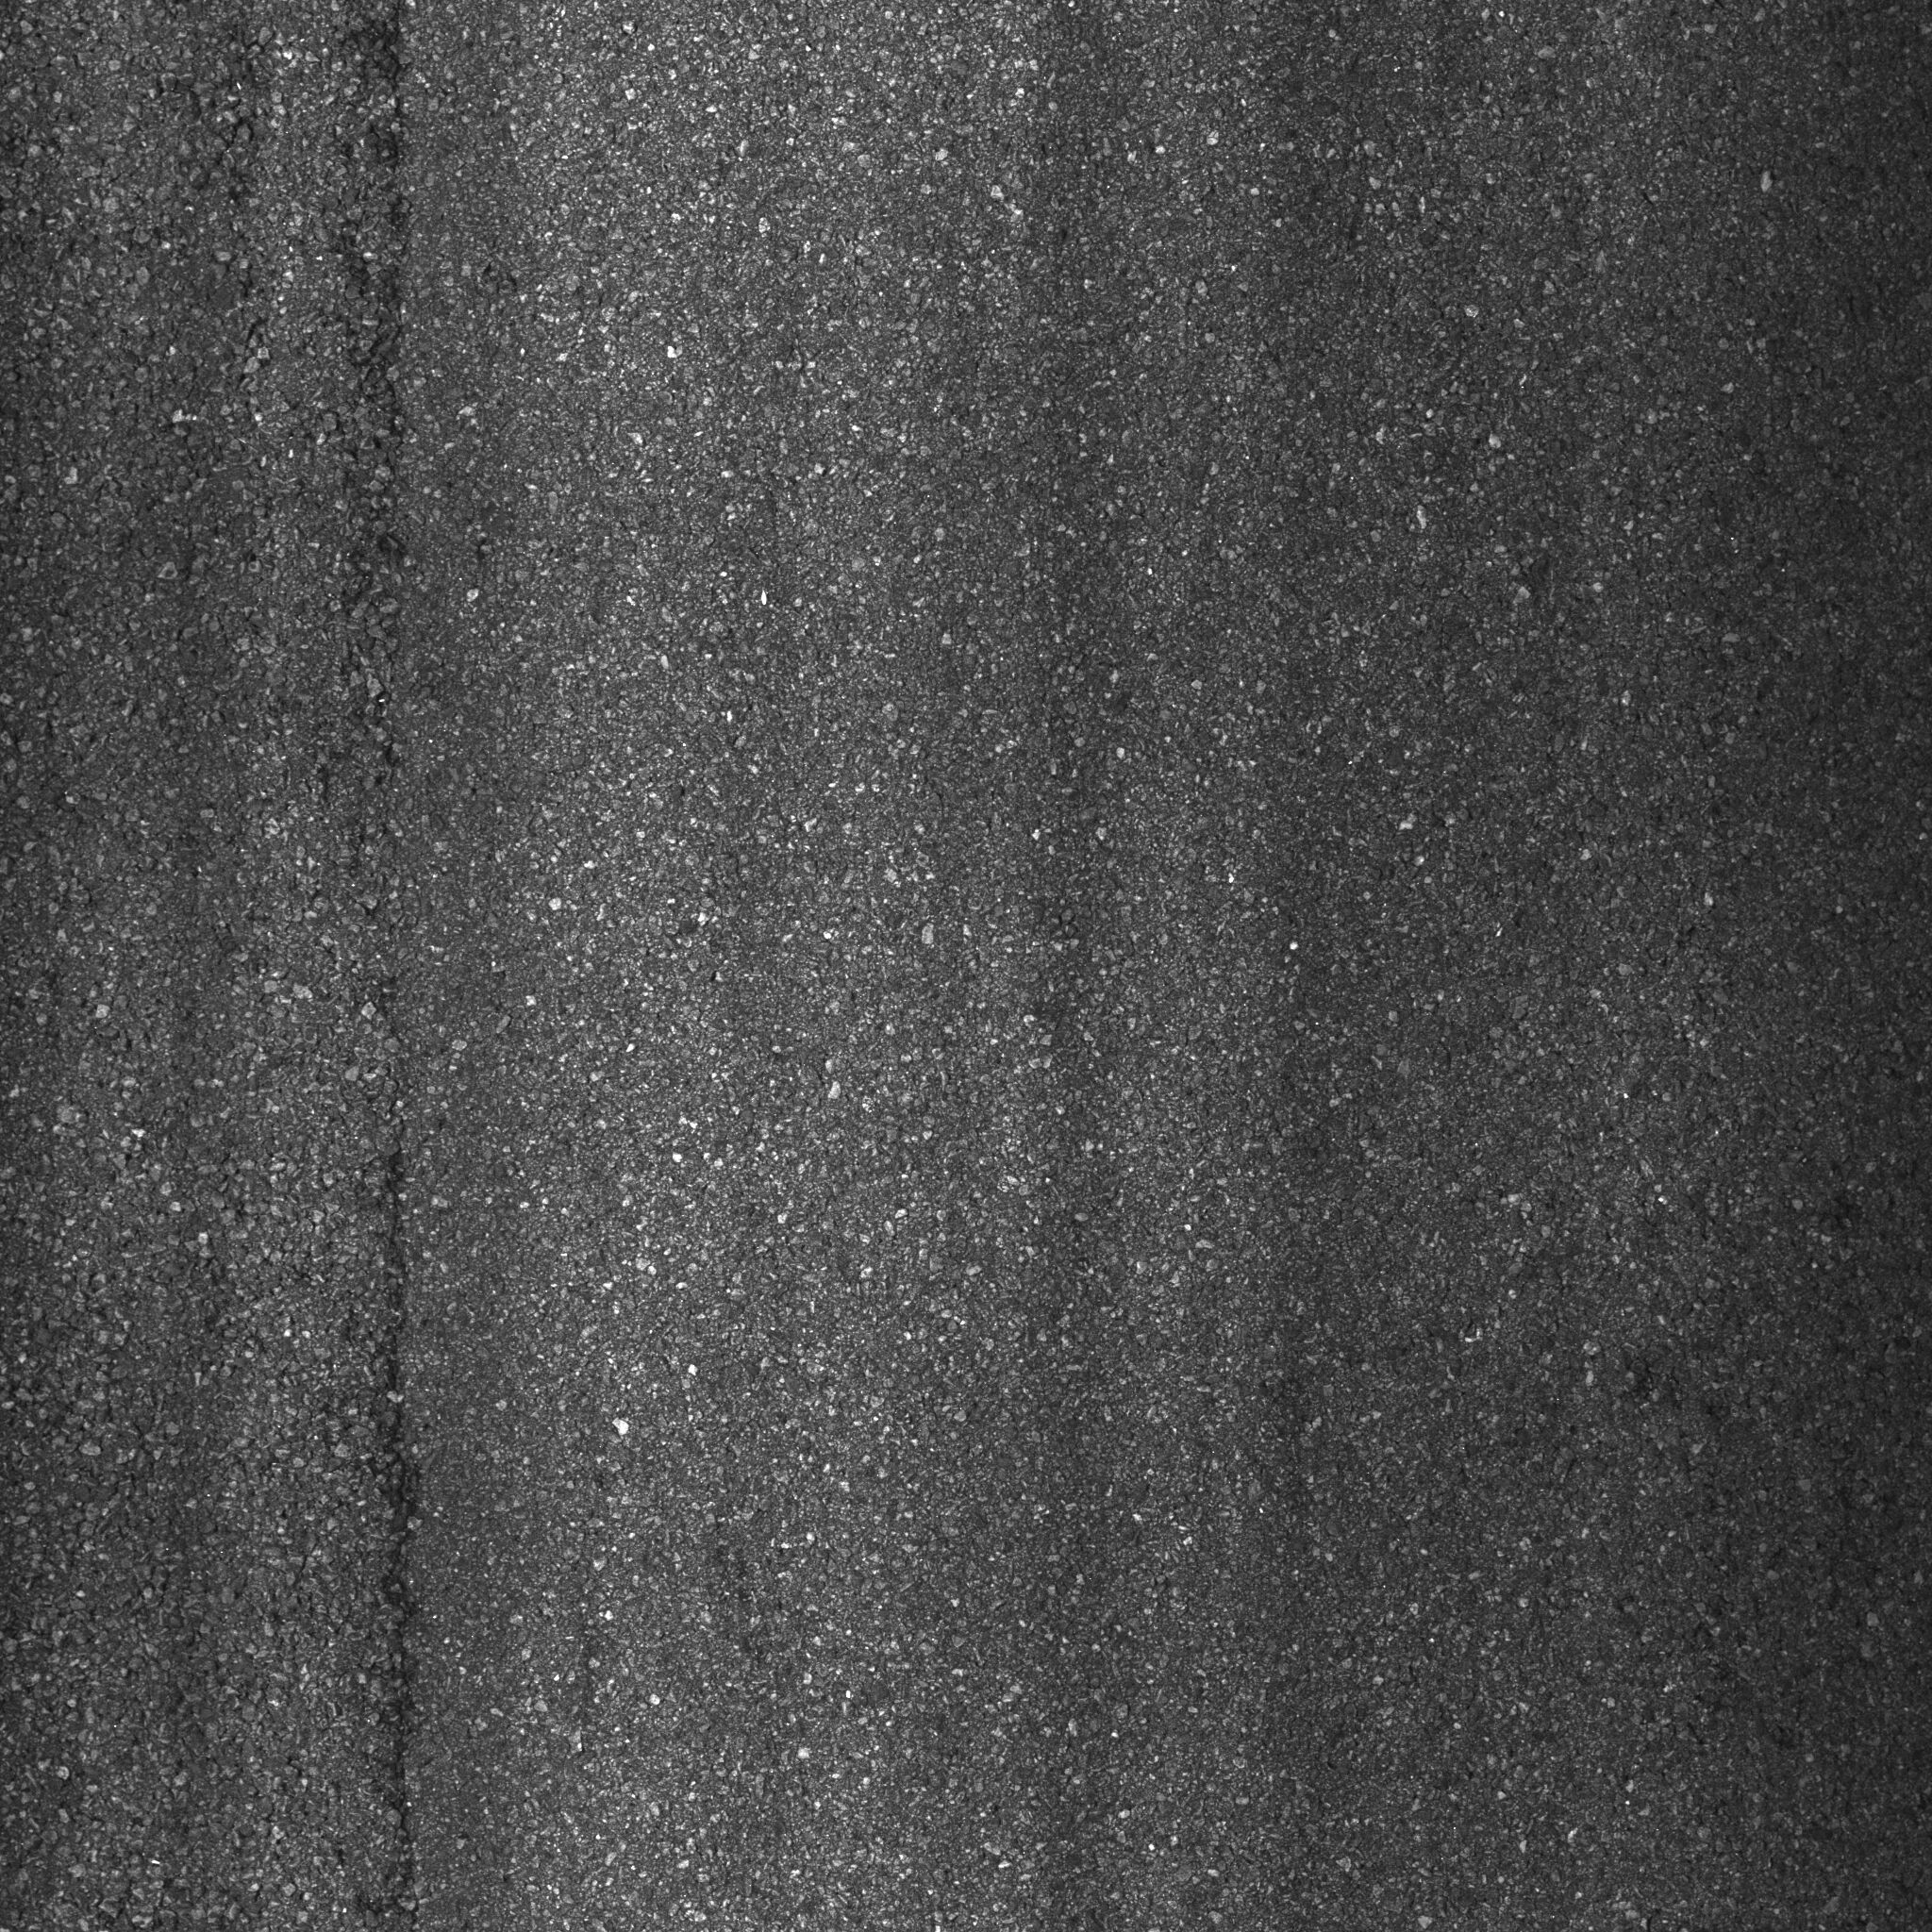longitudinal: (304, 11, 490, 1893)
